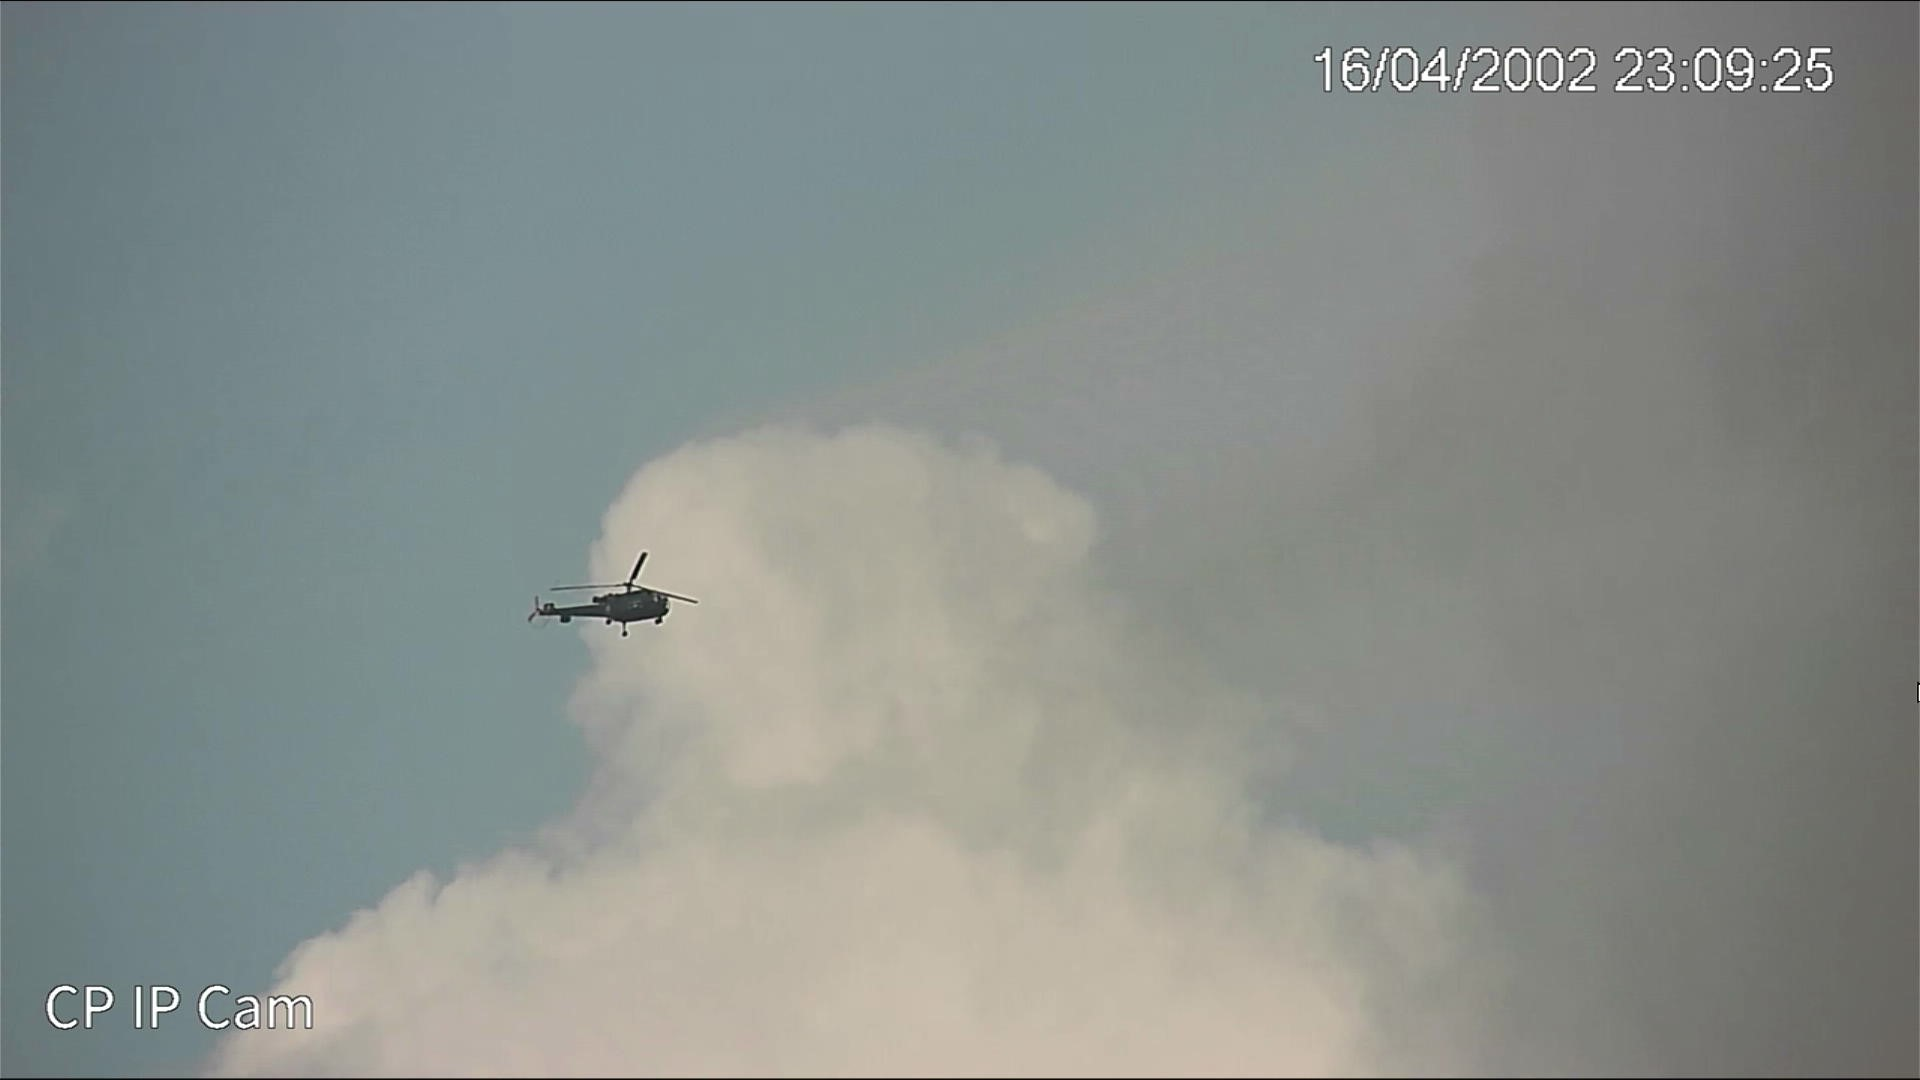SU_30: (531, 578, 674, 641)
